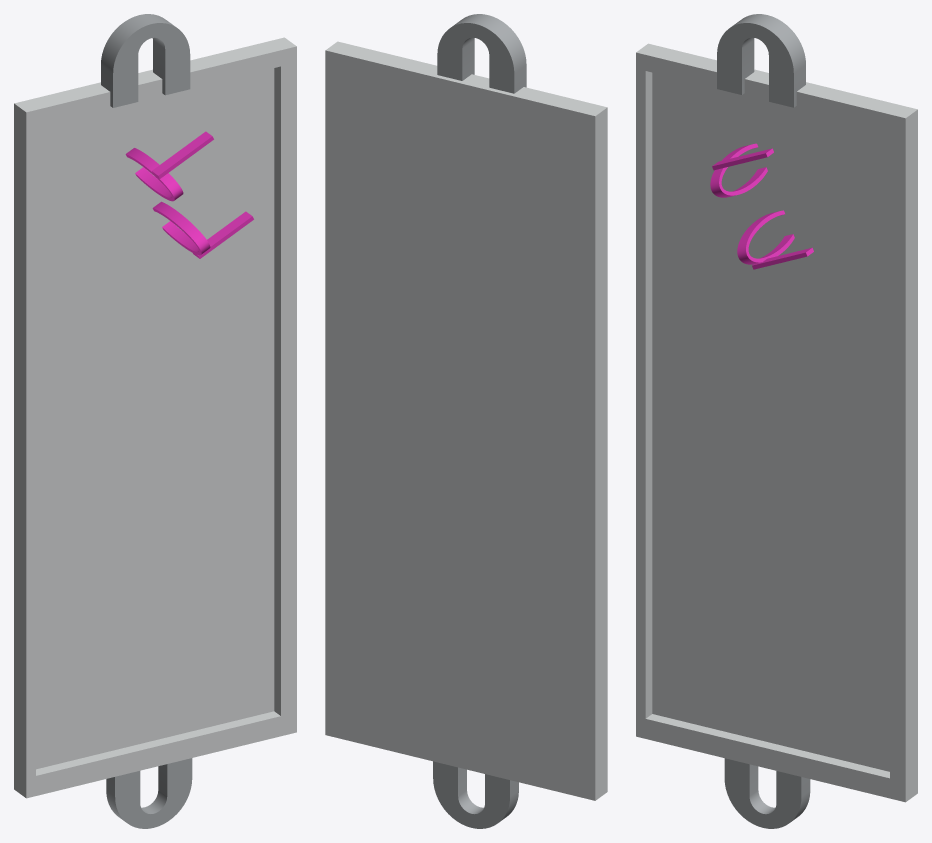
The picture shows the model from 3 angles, left to right: view 1: azimuth 30°, elevation 25°; view 2: azimuth 150°, elevation 25°; view 3: azimuth 330°, elevation 25°; orthographic projection.
Parts seen in each view (by area): view 1: slab, tab, tab.001, fold.001, fold; view 2: slab, tab, tab.001; view 3: slab, tab, tab.001, fold, fold.001.
Boxes of the visible parts, bbox=[...] form: slab: bbox=[14, 37, 296, 798]; tab: bbox=[101, 14, 190, 107]; tab.001: bbox=[106, 758, 192, 828]; fold.001: bbox=[125, 131, 213, 201]; fold: bbox=[152, 201, 253, 258]; slab: bbox=[325, 41, 607, 800]; tab: bbox=[437, 14, 526, 93]; tab.001: bbox=[433, 761, 518, 828]; slab: bbox=[636, 43, 917, 802]; tab: bbox=[717, 14, 805, 107]; tab.001: bbox=[724, 758, 810, 828]; fold: bbox=[737, 210, 813, 269]; fold.001: bbox=[710, 143, 773, 197].
Bounding box in the file's own units: 0.1403 × 0.4 × 0.0432.
